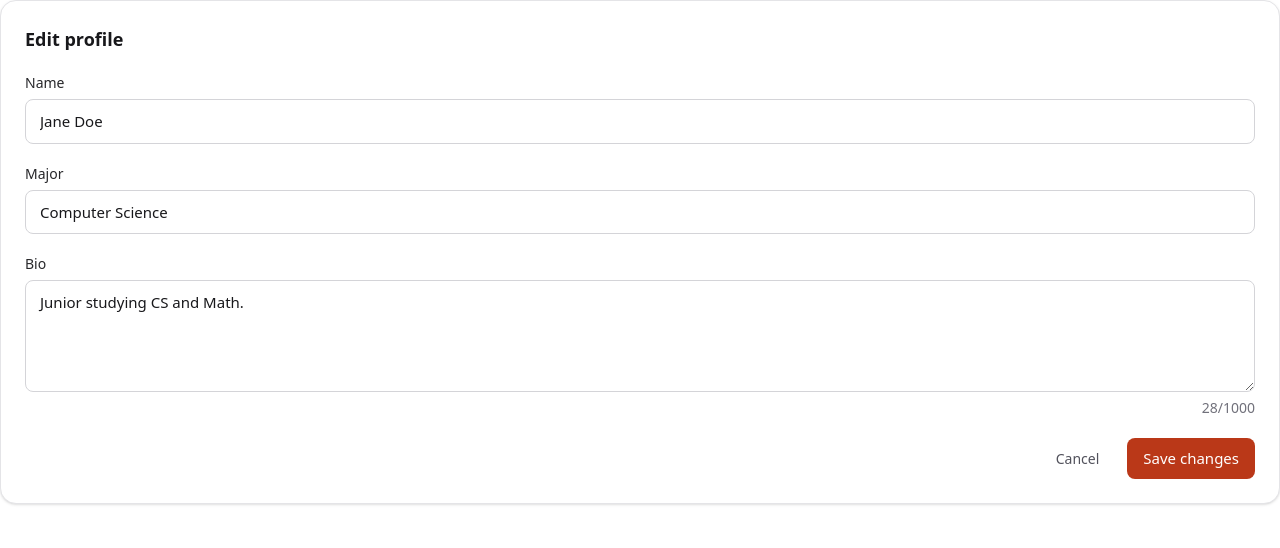
ProfileEditForm › requires a major
Clear the field labelled "Major". click: point(640, 212)
box: x1=25 y1=190 x2=1255 y2=234
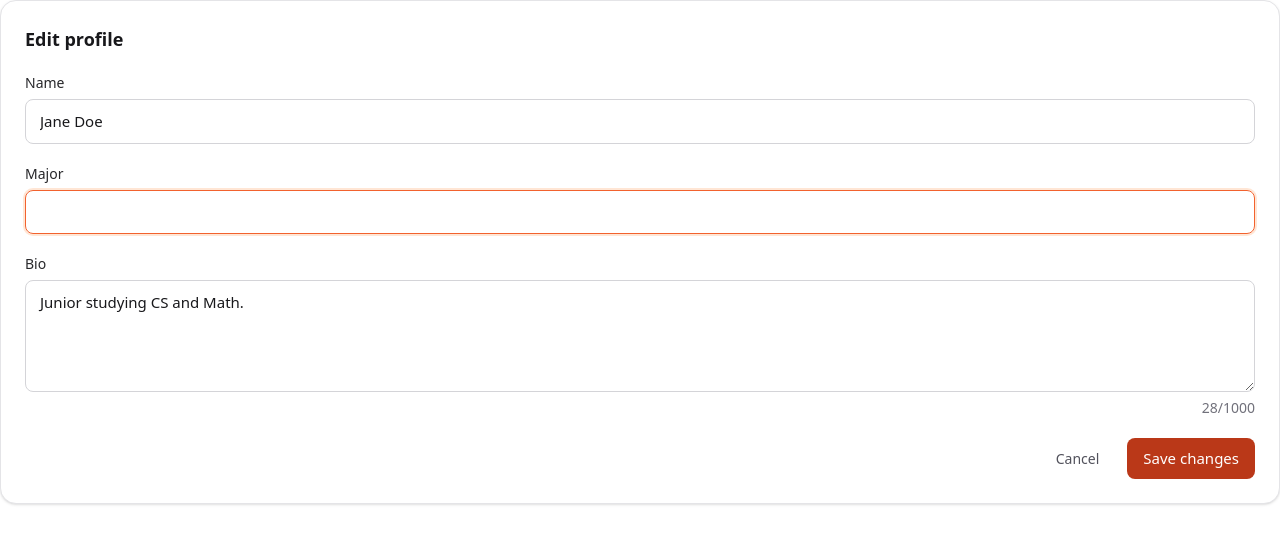
Click the button "Save changes". click: point(1191, 459)
box: x1=1127 y1=438 x2=1255 y2=479
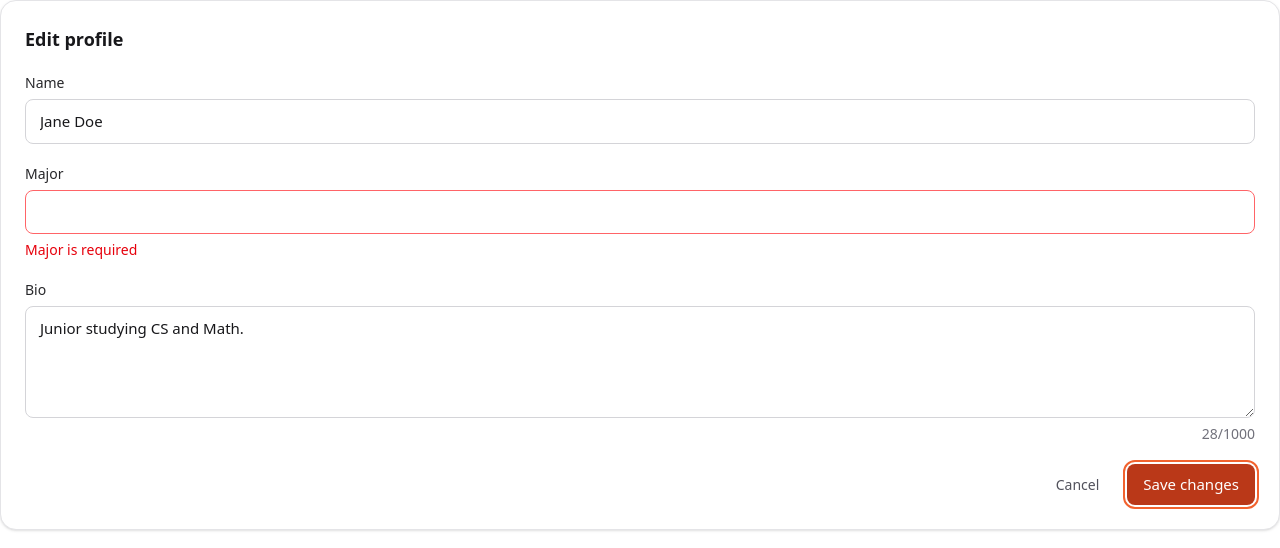
Result: the text "Major is required" is shown at x1=25 y1=240 x2=137 y2=259
